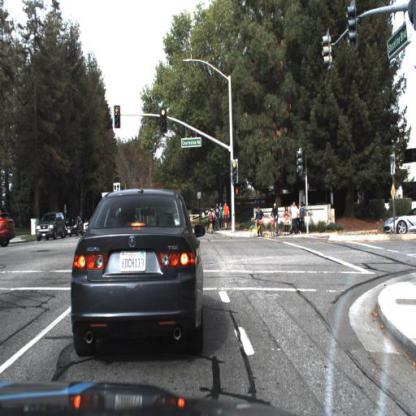biker: (268, 201, 282, 237), (206, 206, 220, 237), (271, 202, 282, 239), (205, 202, 216, 237)
car: (70, 184, 207, 362), (35, 209, 67, 243), (384, 206, 415, 238), (1, 206, 17, 252), (66, 212, 85, 239), (67, 215, 85, 238)
pedestrian: (245, 204, 268, 240), (299, 200, 308, 236), (255, 204, 265, 234), (284, 205, 293, 238), (291, 201, 299, 237), (298, 201, 307, 229), (215, 202, 222, 236), (224, 200, 231, 232), (218, 201, 224, 232), (224, 204, 231, 229), (218, 204, 224, 230)
trafficLight-Red: (230, 158, 241, 187), (159, 105, 169, 136)
trafficLight-RedLeft: (113, 103, 123, 131)
